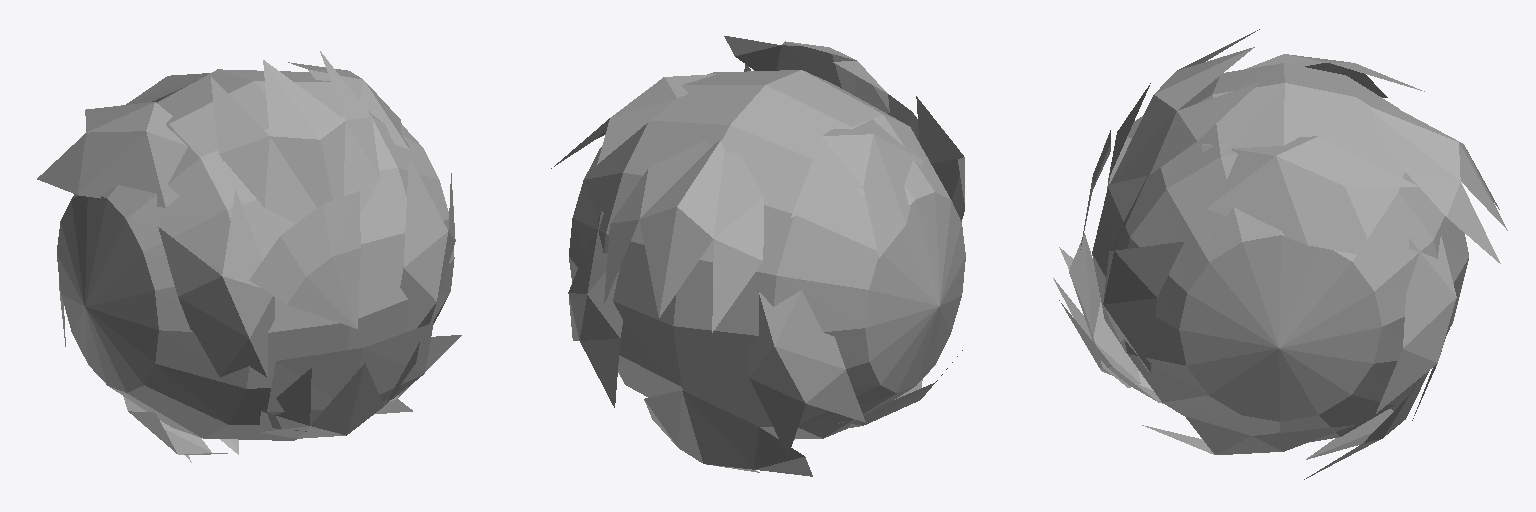
File: son_ball.obj
3 views of the same model, side by side, from view 1: azimuth 30°, elevation 25°; view 2: azimuth 150°, elevation 25°; view 3: azimuth 270°, elevation 25° (orthographic).
Parts seen in each view (by area): view 1: polygon4, polygon3, polygon2, polygon0, polygon1; view 2: polygon4, polygon3, polygon2, polygon0; view 3: polygon4, polygon3, polygon2, polygon1.
Part boxes in pixels (left/top/right/bottom): polygon4: left=57, top=69, right=454, bottom=440; polygon3: left=37, top=62, right=461, bottom=454; polygon2: left=126, top=51, right=419, bottom=462; polygon0: left=249, top=191, right=360, bottom=328; polygon1: left=267, top=323, right=433, bottom=431; polygon4: left=569, top=70, right=965, bottom=439; polygon3: left=551, top=64, right=964, bottom=456; polygon2: left=604, top=36, right=889, bottom=476; polygon0: left=887, top=94, right=918, bottom=140; polygon4: left=1092, top=63, right=1468, bottom=441; polygon3: left=1103, top=54, right=1456, bottom=454; polygon2: left=1053, top=29, right=1507, bottom=479; polygon1: left=1069, top=233, right=1140, bottom=387.
Size of the model in its own units: 6.7 by 7.74 by 7.74.